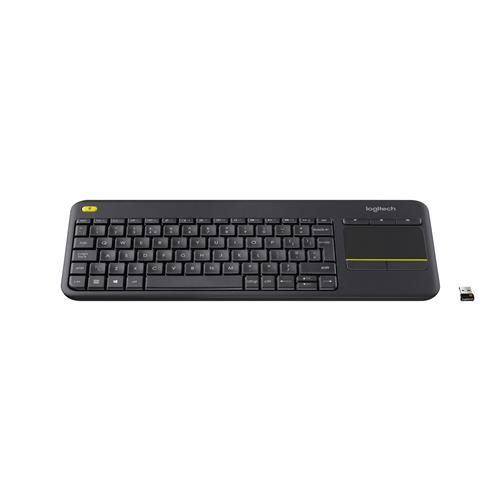logitech-keyboard-k400: (59, 197, 436, 304)
